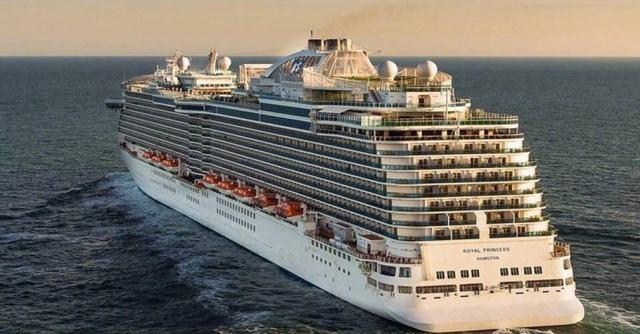youlun: (109, 35, 589, 332)
